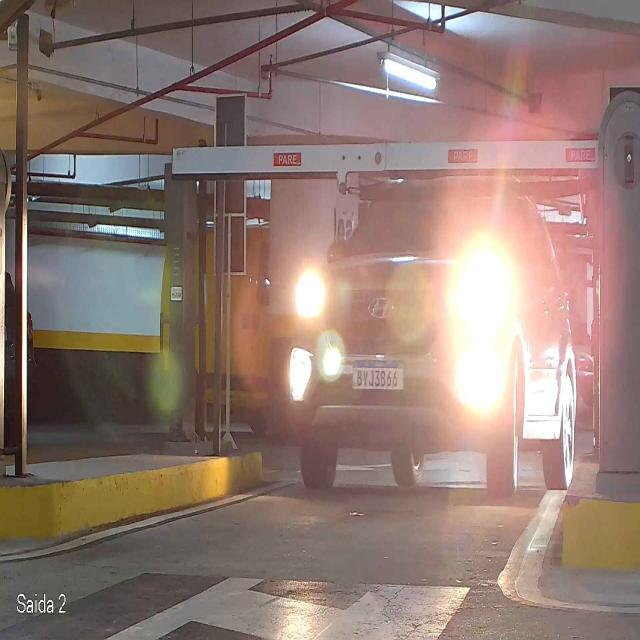mercosul_plate: (352, 359, 406, 391)
